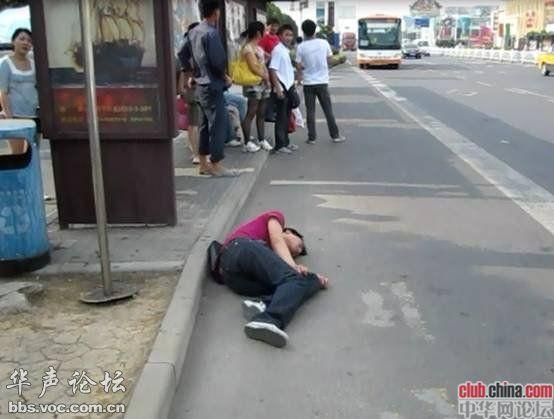Fall-Detected: (198, 200, 332, 351)
